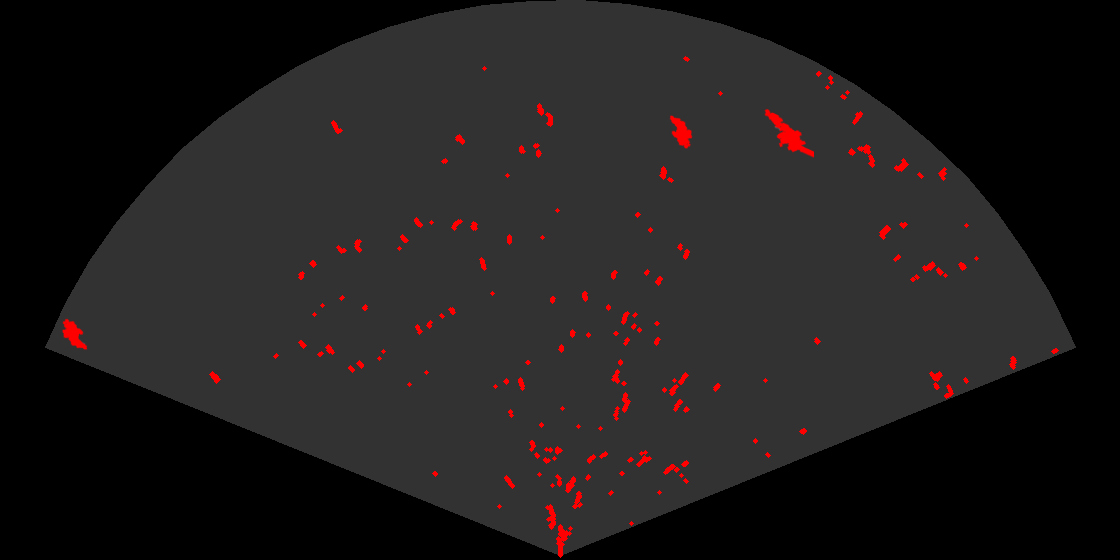AUV: (60, 317, 89, 352), (668, 114, 694, 150)
frogman: (763, 107, 814, 159)
